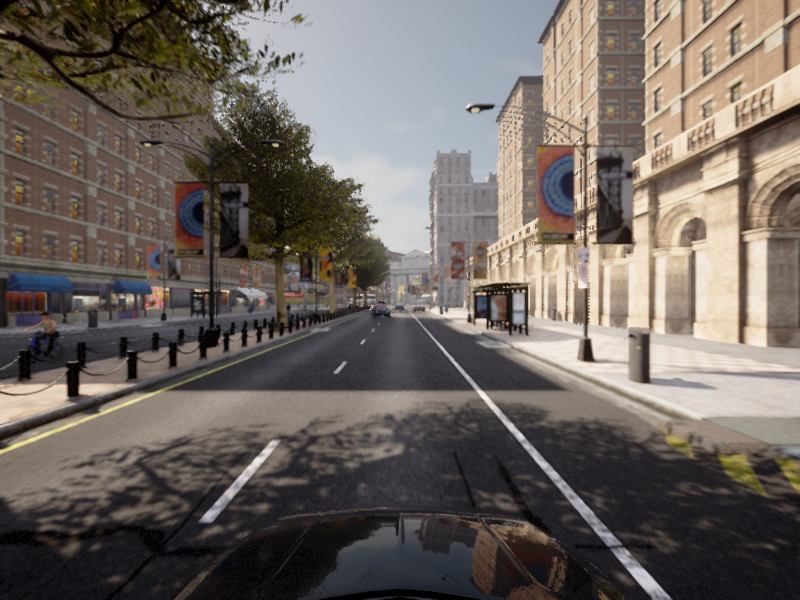vehicle: (6, 311, 75, 365), (370, 305, 391, 318), (281, 302, 293, 319)
